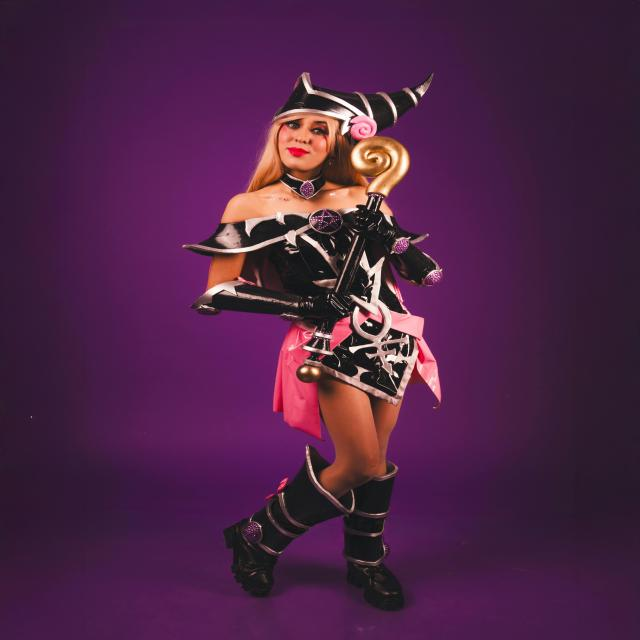stand: (205, 81, 421, 578)
